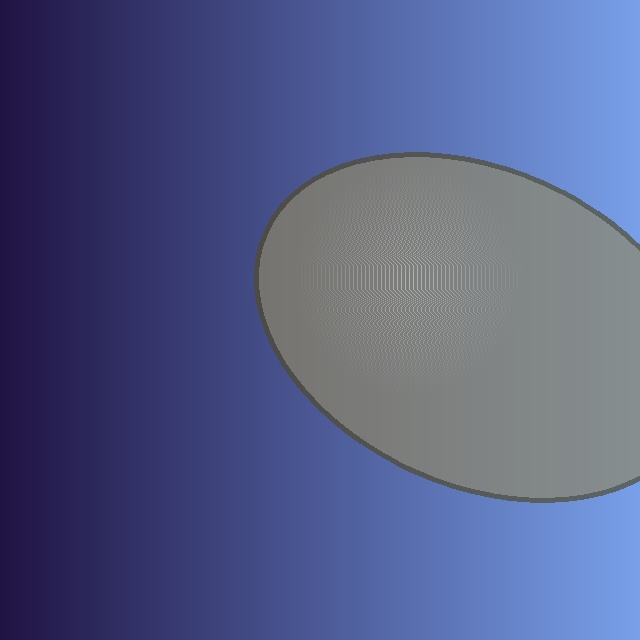lens: (256, 154, 640, 500)
